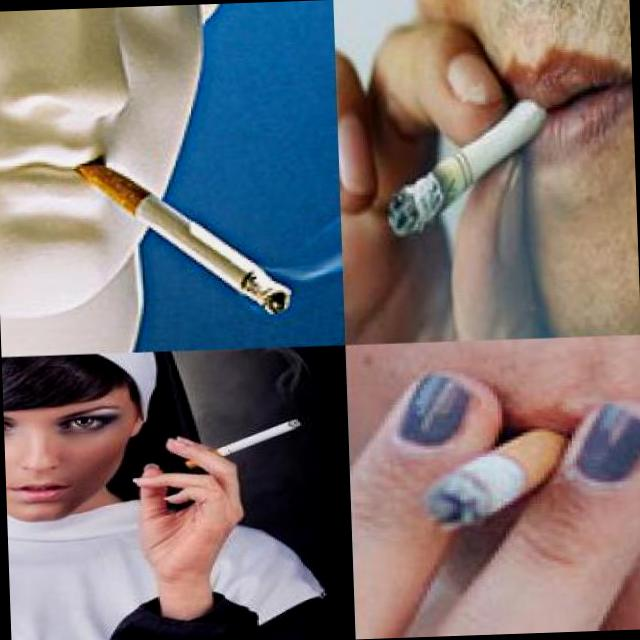cigarette: (70, 151, 290, 321), (378, 96, 560, 240), (423, 425, 572, 528), (184, 418, 302, 468)
